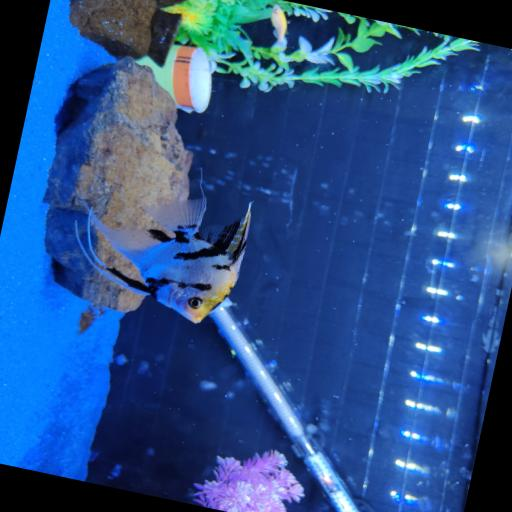Fish: (75, 196, 250, 322), (270, 5, 286, 43)
